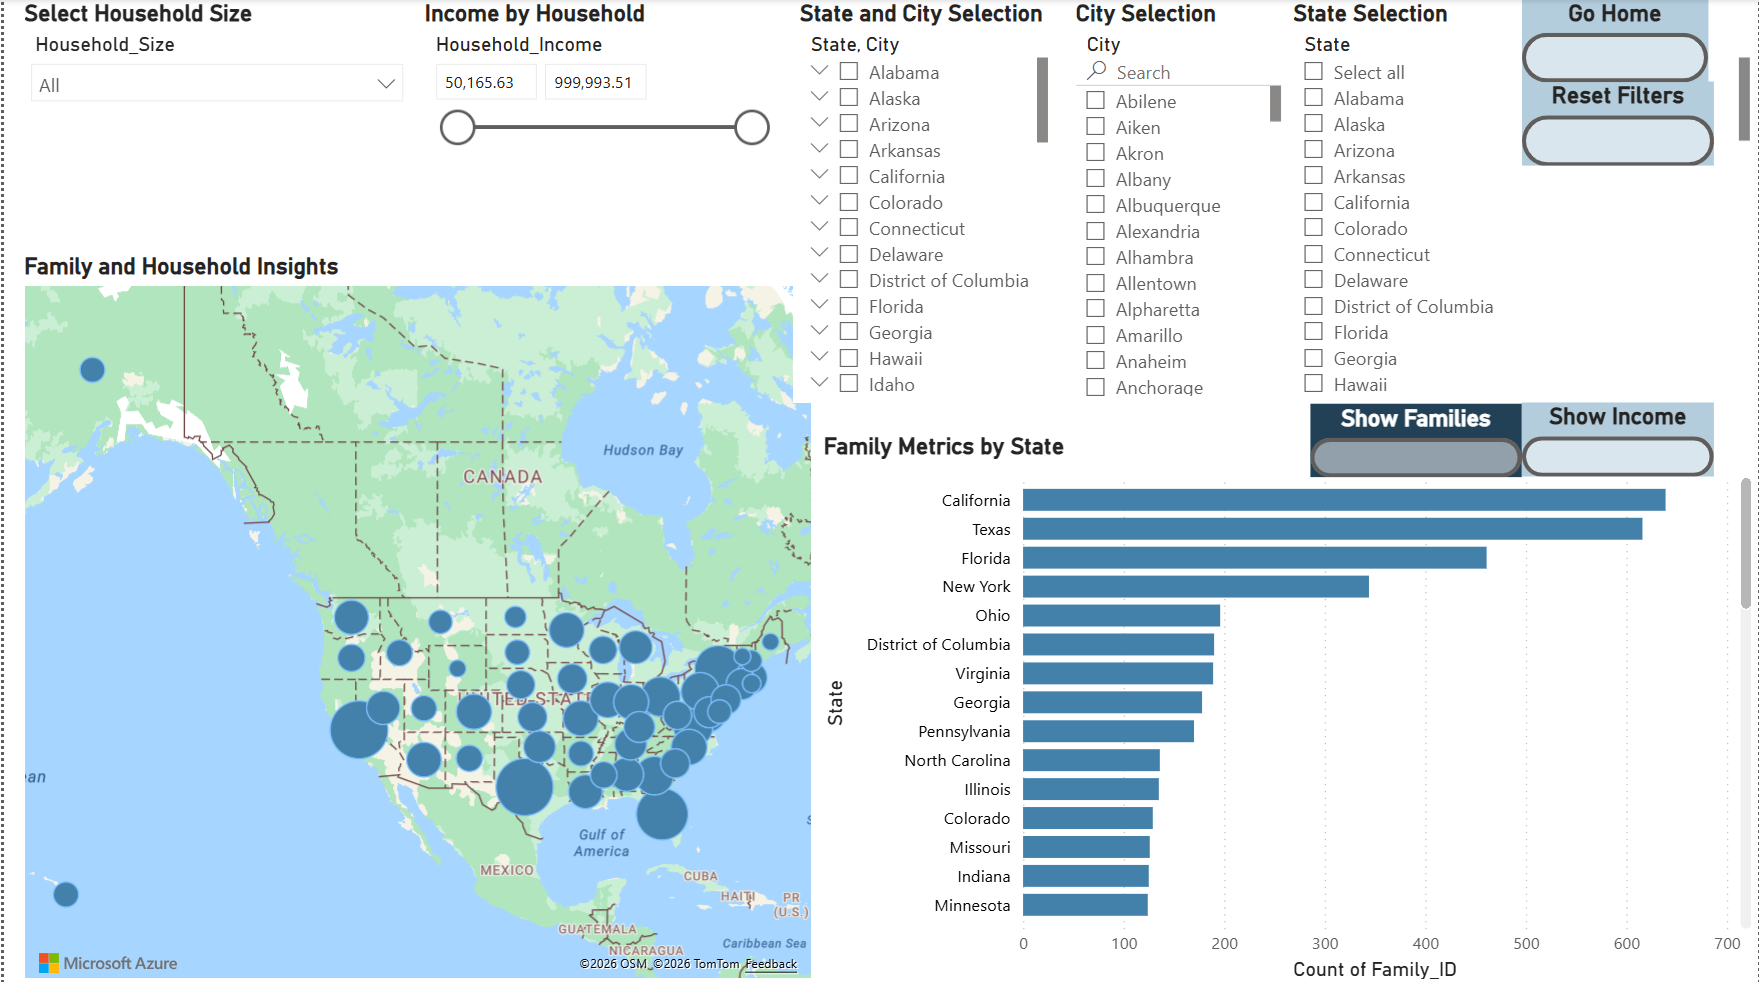

This screenshot's page, from the dashboard's own definition file:
{"tool":"powerbi","page":{"name":"Family","canvas":[1280,720],"ordinal":2},"visuals":[{"type":"azureMap","title":"Family and Household Insights","fields":{"Size":["CountNonNull(Family_Data.Family_ID)"],"Category":["Family_Data.State","Family_Data.City"]},"box":[9.7,184.9,583.6,534.1],"z":0},{"type":"barChart","title":"Family Metrics by State","fields":{"Category":["Family_Data.State"],"Y":["CountNonNull(Family_Data.Family_ID)"]},"box":[593.1,315.9,686.4,403.5],"z":1000},{"type":"slicer","title":"Select Household Size","fields":{"Values":["Family_Data.Household_Size"]},"box":[10.1,0,291.5,185.3],"z":2000},{"type":"slicer","title":"Income by Household","fields":{"Values":["Family_Data.Household_Income"]},"box":[301.6,0,264.2,185.3],"z":3000},{"type":"slicer","title":"State and City Selection","fields":{"Values":["Family_Data.State","Family_Data.City"]},"box":[575.9,0,191,294.4],"z":4000},{"type":"actionButton","title":"Show Families","box":[952.7,294.3,154.4,53.9],"z":6000},{"type":"slicer","title":"City Selection","fields":{"Values":["Family_Data.City"]},"box":[776.9,0,159.4,294.4],"z":7000},{"type":"slicer","title":"State Selection","fields":{"Values":["Family_Data.State"]},"box":[936,0,343,294],"z":8000},{"type":"actionButton","title":"Show Income","box":[1107.1,294.3,139.8,53.9],"z":9000},{"type":"actionButton","title":"Reset Filters","box":[1106.8,60.4,140.2,61.6],"z":10000},{"type":"actionButton","title":"Show Families","box":[953.6,295.2,154,53.2],"z":11000},{"type":"actionButton","title":"Go Home","box":[1107.6,0,135.7,60.5],"z":13000}]}

Visuals, with their boxes in screenshot pixels (x1, y1, x2, y2), scaled from the page's 1280x720 canvas onto the 1759x985 screenshot:
"Family and Household Insights" azureMap: (13, 253, 815, 984)
"Family Metrics by State" barChart: (815, 432, 1758, 984)
"Select Household Size" slicer: (14, 0, 414, 254)
"Income by Household" slicer: (414, 0, 778, 254)
"State and City Selection" slicer: (791, 0, 1054, 403)
"Show Families" actionButton: (1309, 403, 1521, 476)
"City Selection" slicer: (1068, 0, 1287, 403)
"State Selection" slicer: (1286, 0, 1758, 402)
"Show Income" actionButton: (1521, 403, 1714, 476)
"Reset Filters" actionButton: (1521, 83, 1714, 167)
"Show Families" actionButton: (1310, 404, 1522, 477)
"Go Home" actionButton: (1522, 0, 1709, 83)
